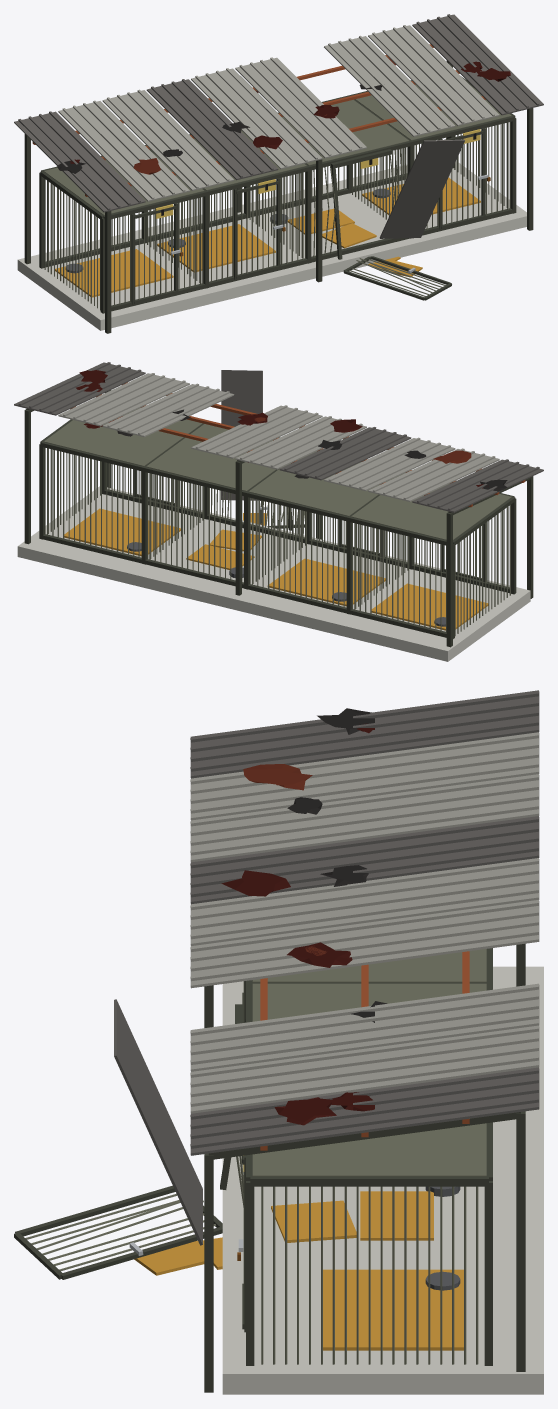
Rendered from lab_cage_block.glb.
3 renders of one model, top to bottom at view 1: azimuth 30°, elevation 25°; view 2: azimuth 150°, elevation 25°; view 3: azimuth 270°, elevation 25°, orthographic. The views are drawn at different scales.
Parts seen in each view (by area): view 1: lab_cage_block; view 2: lab_cage_block; view 3: lab_cage_block.
Boxes of the visible parts, x1=… form: lab_cage_block: x1=14, y1=14, x2=543, y2=333; lab_cage_block: x1=14, y1=362, x2=543, y2=661; lab_cage_block: x1=14, y1=690, x2=543, y2=1394.
Bounding box in the file's own units: 10.84 × 3.55 × 5.77.
